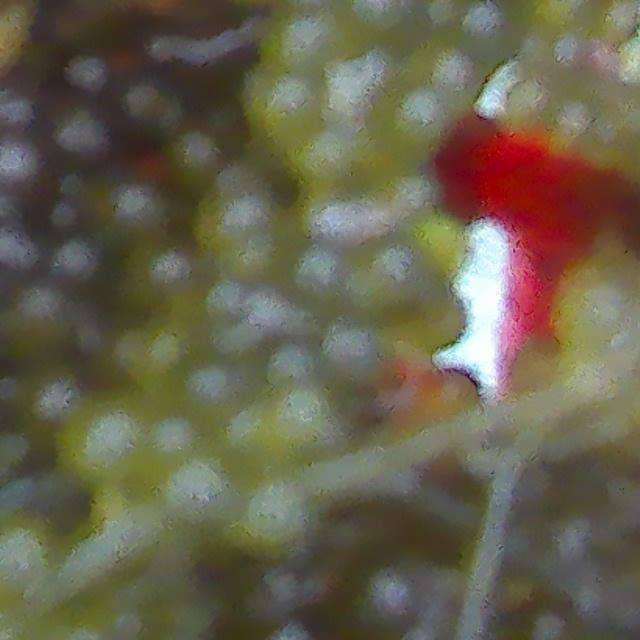SeaGrape: (54, 394, 147, 487), (262, 381, 338, 462), (62, 101, 113, 159), (118, 185, 171, 235), (0, 214, 38, 282), (0, 136, 36, 190), (0, 77, 29, 122)
